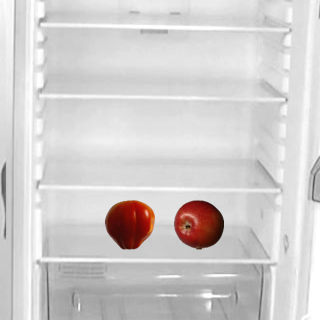Apple Braeburn: (173, 199, 223, 249)
Tomato 1: (104, 199, 154, 249)
